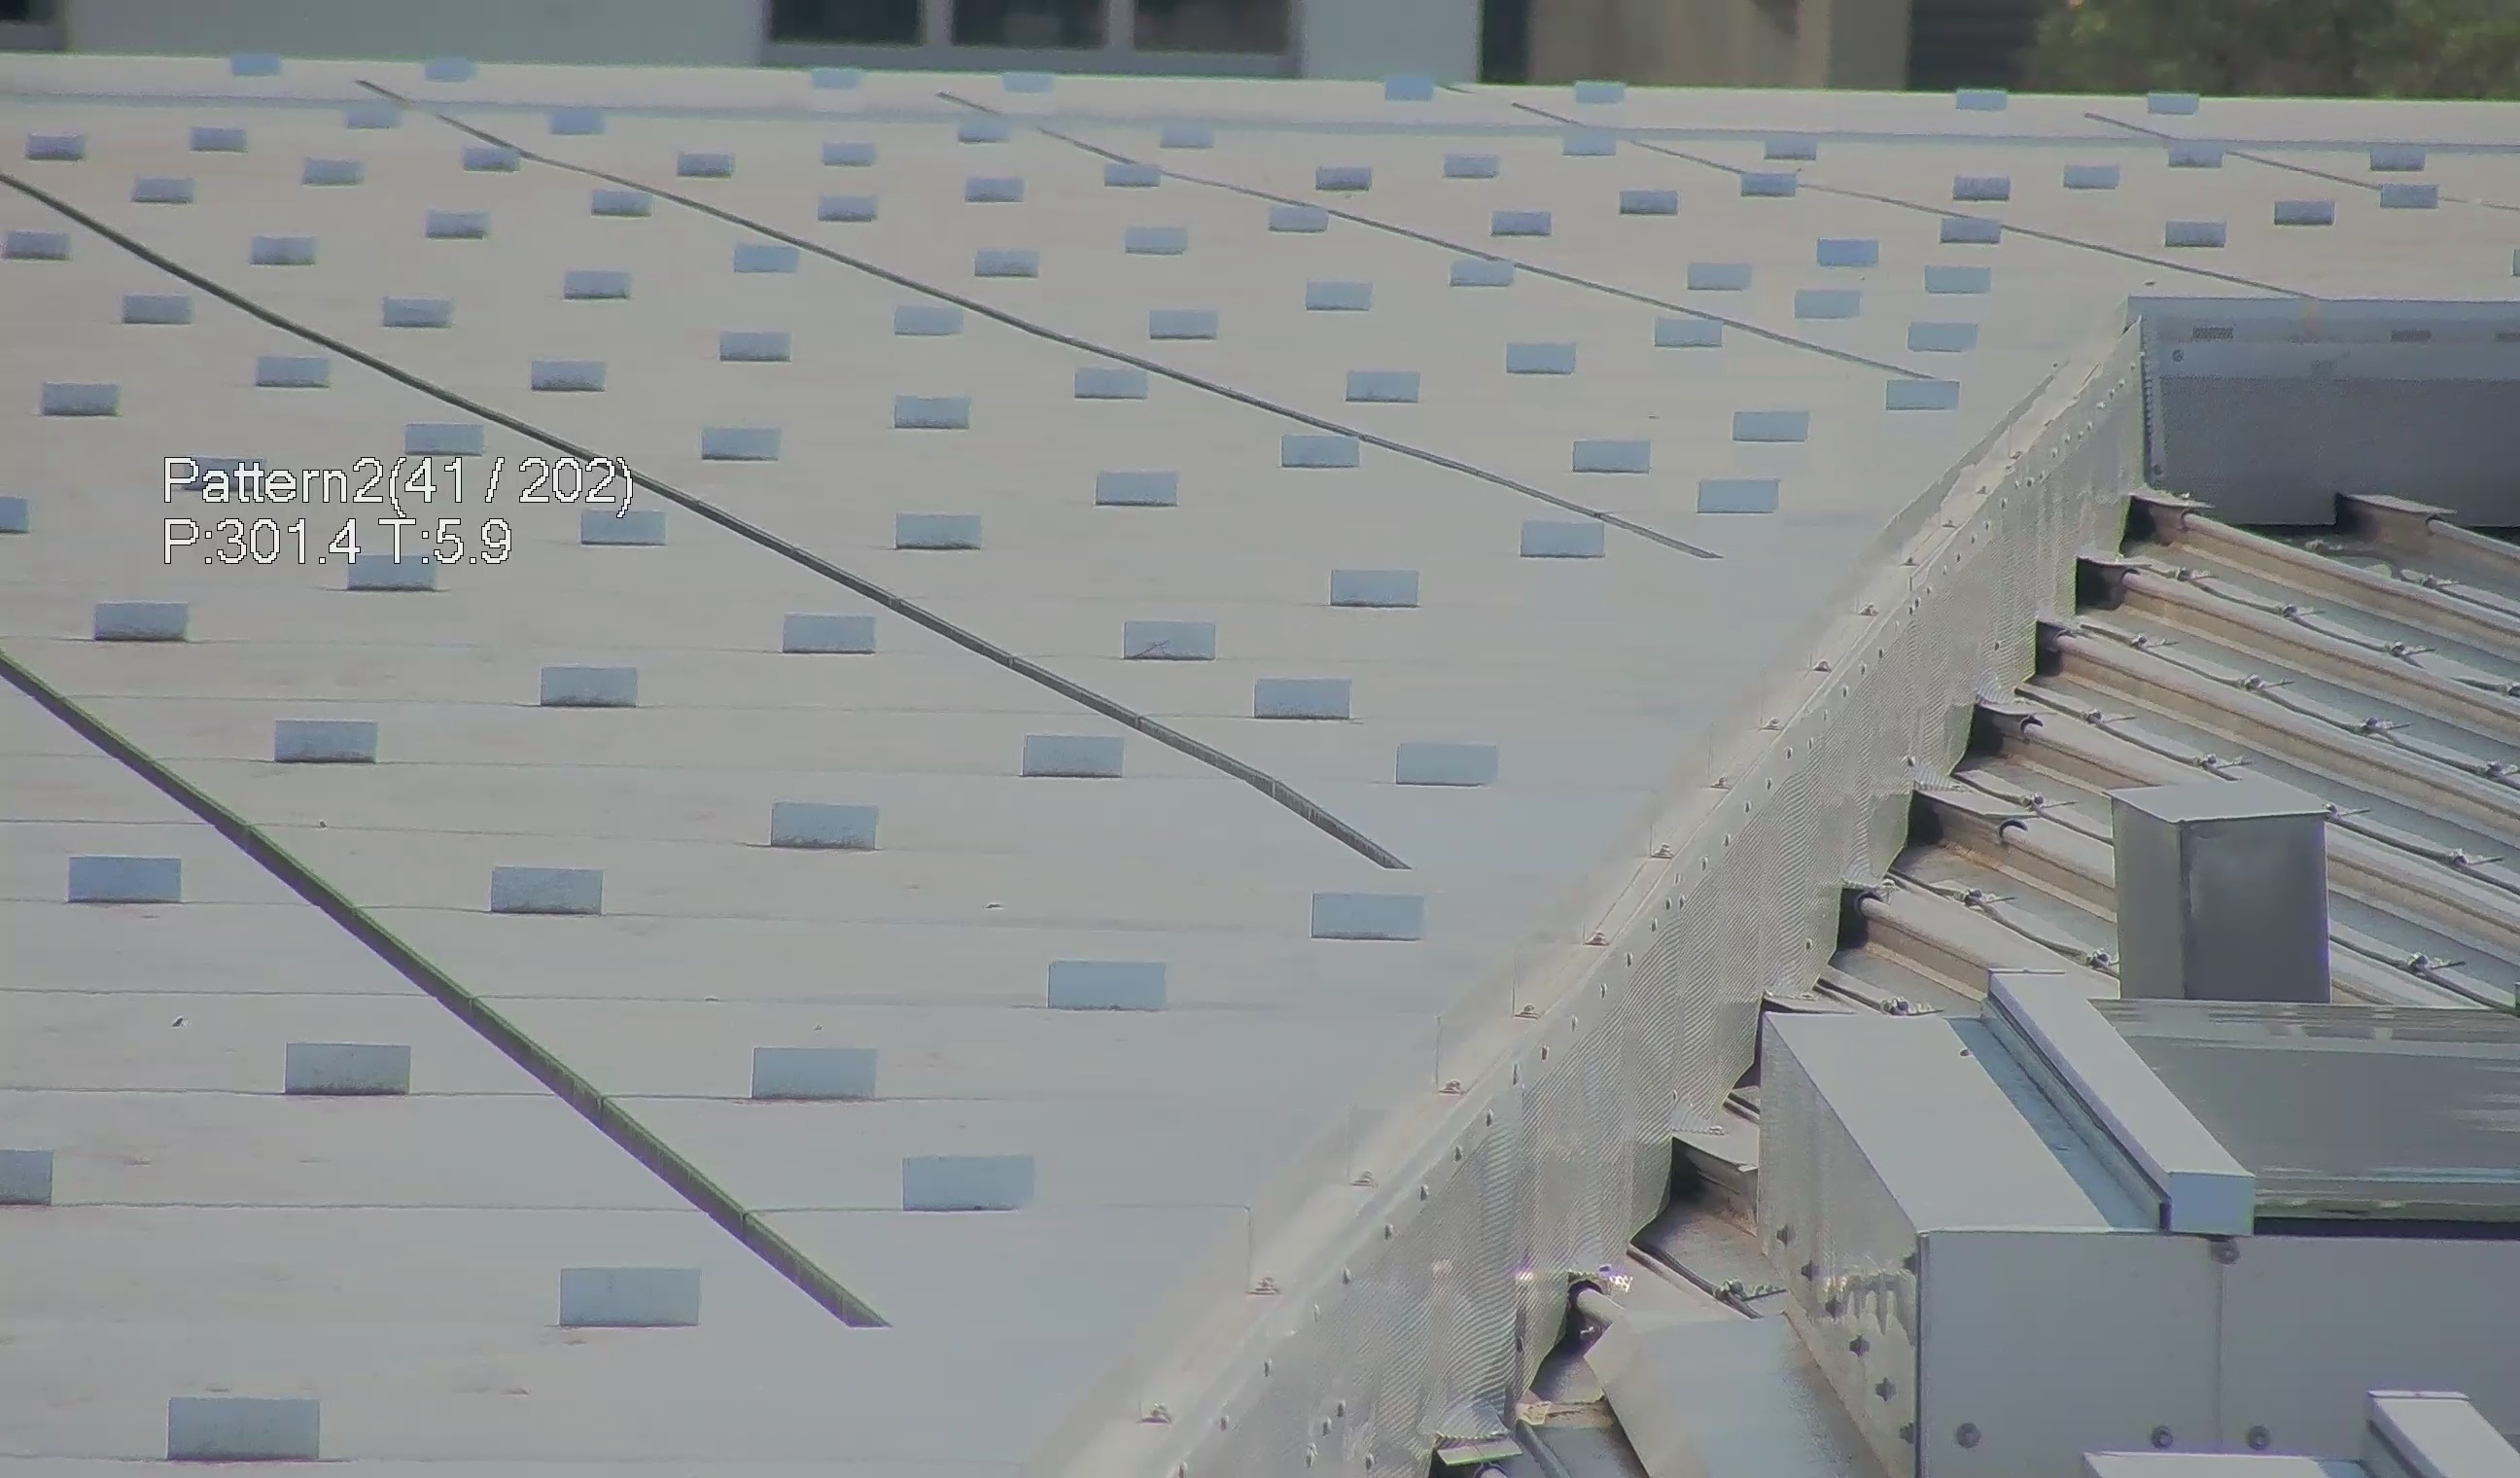Other: (1502, 1256, 1637, 1429)
